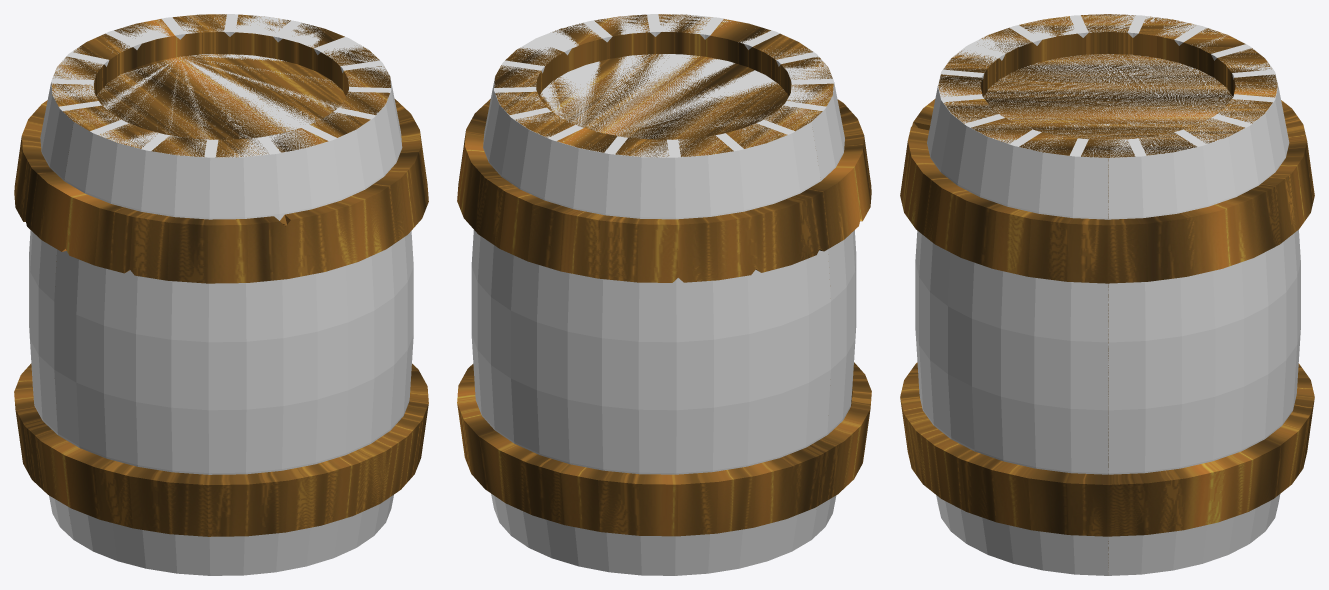
The model's file is BarrelVersion1.fbx.
The picture shows the model from 3 angles, left to right: view 1: azimuth 30°, elevation 25°; view 2: azimuth 150°, elevation 25°; view 3: azimuth 270°, elevation 25°; orthographic projection.
Visible parts, largest first — view 1: Cylinder.001, Cylinder; view 2: Cylinder.001, Cylinder; view 3: Cylinder.001, Cylinder.
Boxes of the visible parts, box(x1,y1,x2,y2) form: Cylinder.001: box(29, 14, 413, 575); Cylinder: box(14, 14, 428, 536); Cylinder.001: box(471, 14, 856, 575); Cylinder: box(457, 14, 871, 536); Cylinder.001: box(915, 14, 1300, 575); Cylinder: box(900, 14, 1314, 567).
Bounding box in the file's own units: 514 × 571 × 513.
